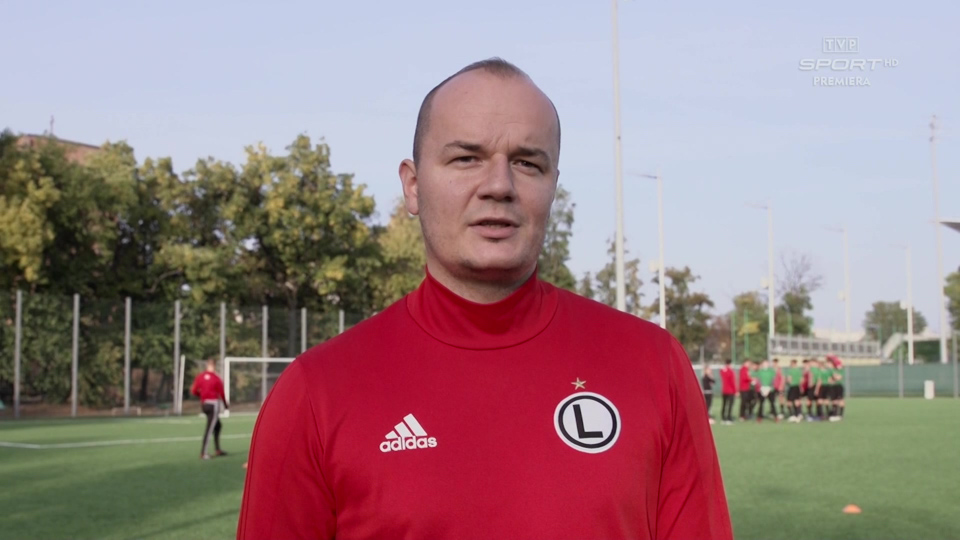Adidas: (378, 410, 439, 454)
